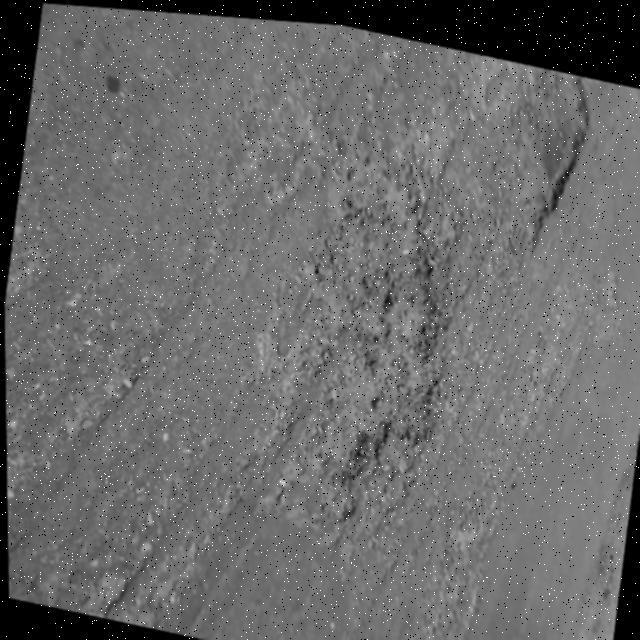pothole: (246, 109, 487, 548), (474, 49, 607, 254)
